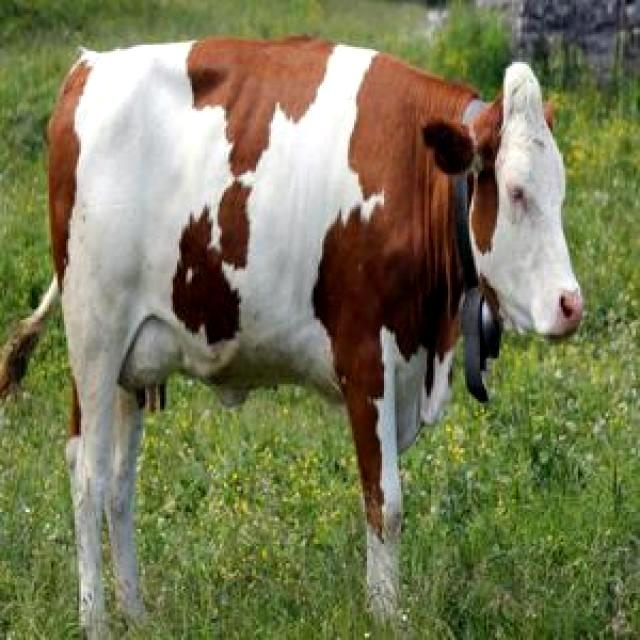COW: (0, 36, 582, 640)
